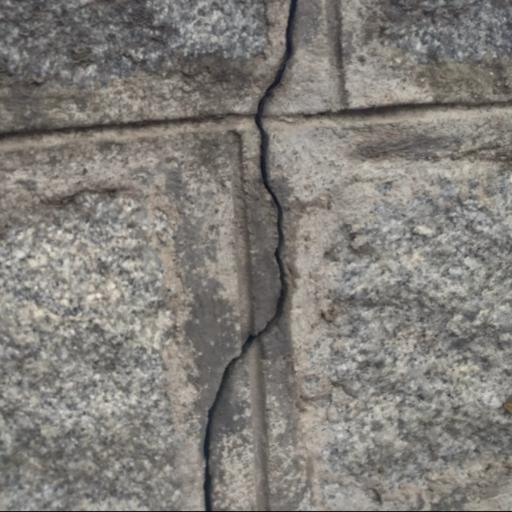major_crack: (189, 0, 314, 512)
